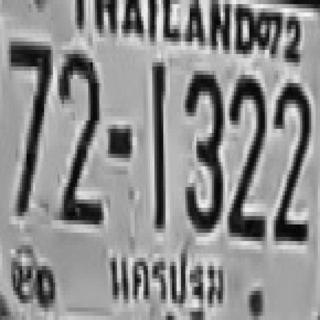N01: (147, 54, 174, 240)
N02: (54, 34, 110, 237), (271, 61, 318, 259), (230, 57, 270, 262)
N03: (173, 52, 228, 250)
N07: (1, 30, 54, 231)
P28: (104, 246, 236, 320)
